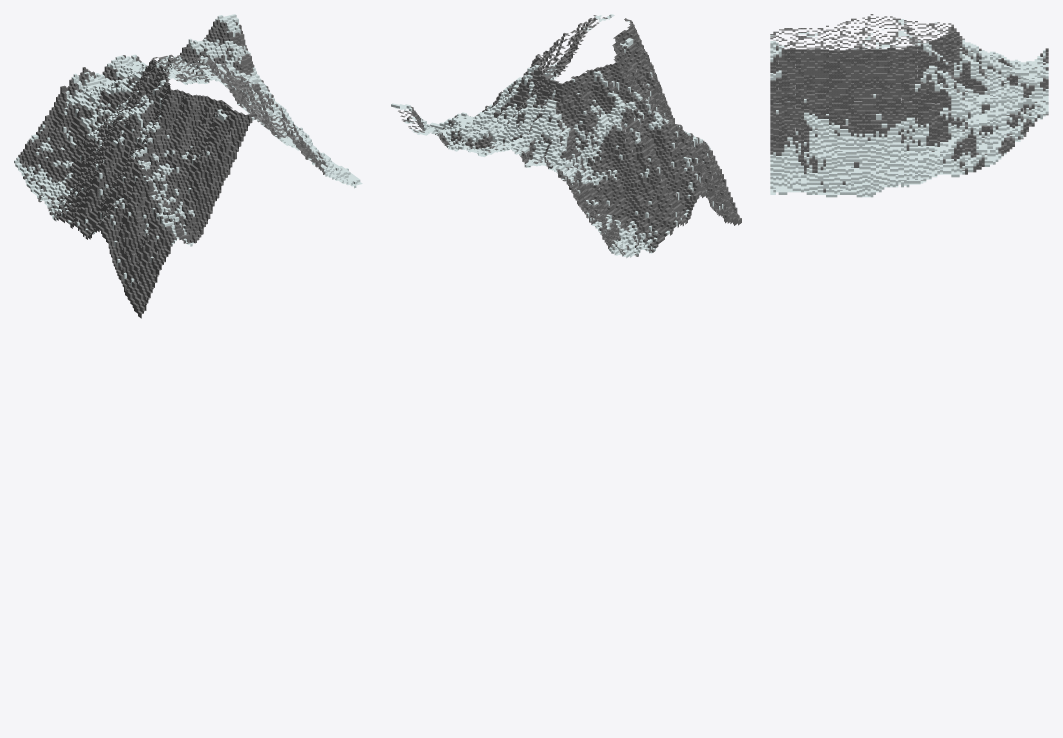
The model's file is chunk4100-100-lvl-1-transformed.glb.
3 renders of one model, left to right at view 1: azimuth 30°, elevation 25°; view 2: azimuth 150°, elevation 25°; view 3: azimuth 270°, elevation 25°, orthographic. The views are drawn at different scales.
Parts seen in each view (by area): view 1: Stone, Cobblestone, Snow_Block; view 2: Stone, Cobblestone, Snow_Block; view 3: Snow_Block, Stone, Cobblestone.
Boxes of the visible parts, x1,y1,x2,y2 form: Stone: (20, 19, 327, 318); Cobblestone: (18, 22, 325, 313); Snow_Block: (14, 14, 362, 286); Stone: (399, 15, 741, 256); Cobblestone: (398, 17, 737, 256); Snow_Block: (391, 14, 723, 258); Snow_Block: (770, 19, 1048, 197); Stone: (770, 16, 1048, 192); Cobblestone: (770, 14, 1048, 184).
Size of the model in its own units: 100 by 251 by 100.
14 materials, 14 textured.
